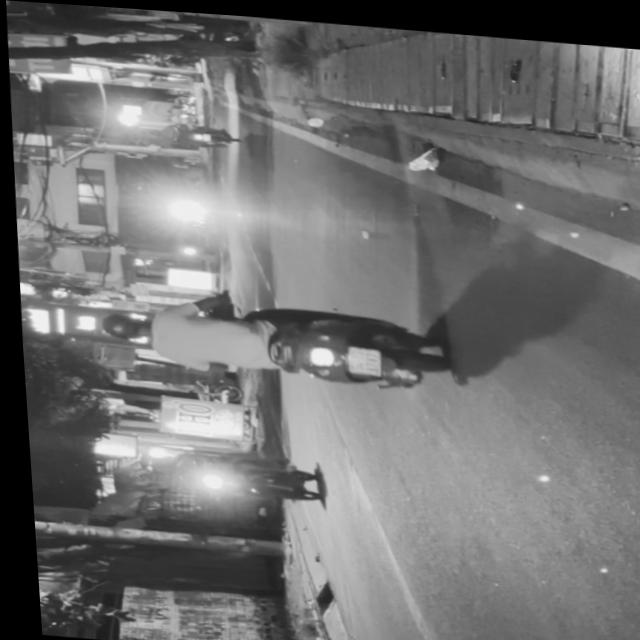helmet: (91, 310, 145, 343)
licenseplate: (87, 283, 446, 394)
nohelmet: (341, 340, 375, 370)
